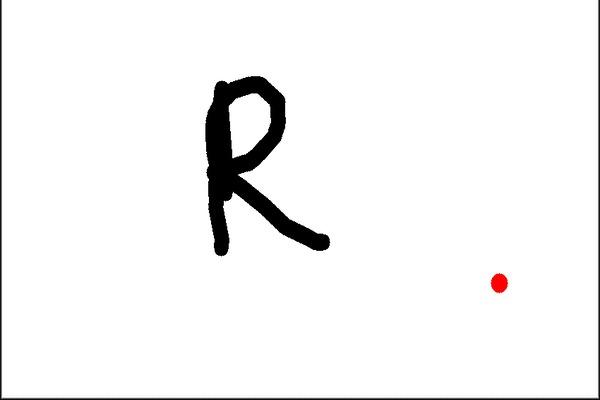R: (199, 65, 337, 261)
